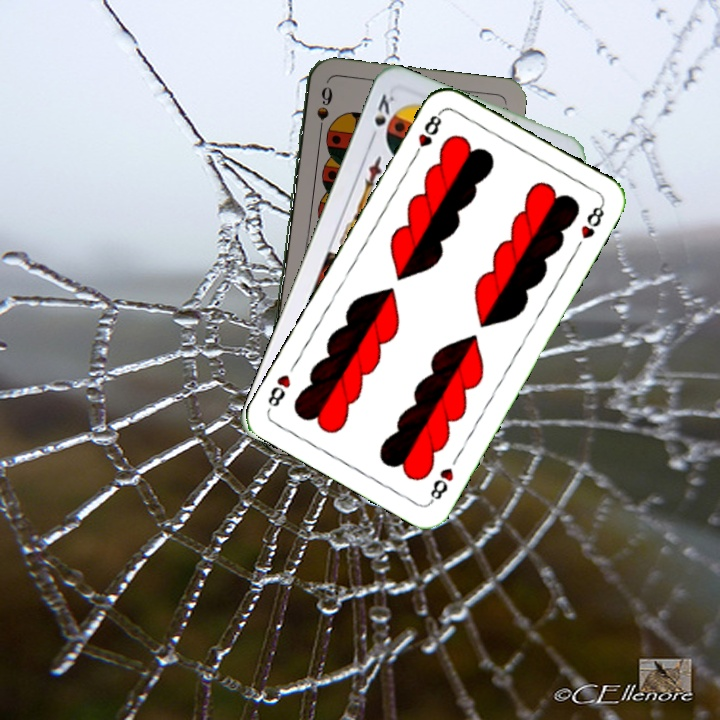H8: (409, 107, 445, 162), (426, 463, 456, 506)
S9: (313, 83, 332, 140)
SK: (365, 89, 397, 145)
